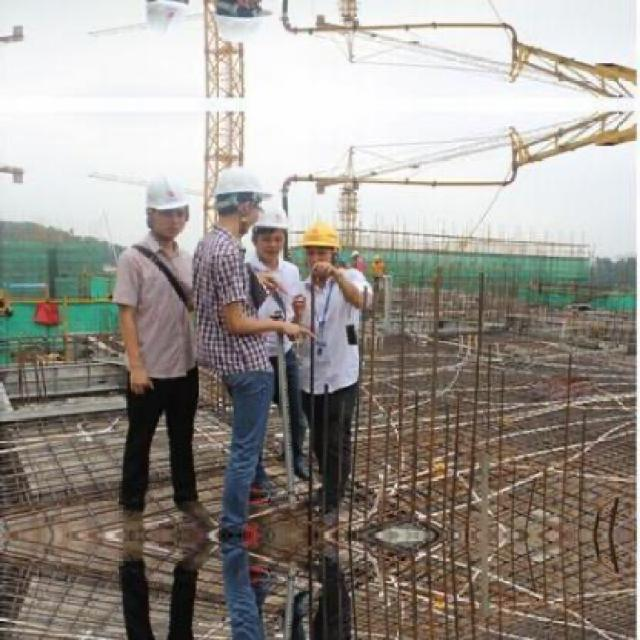helmet: (203, 162, 266, 236), (142, 168, 196, 245), (203, 0, 268, 46), (300, 212, 343, 278), (254, 200, 297, 265), (141, 0, 197, 40)
